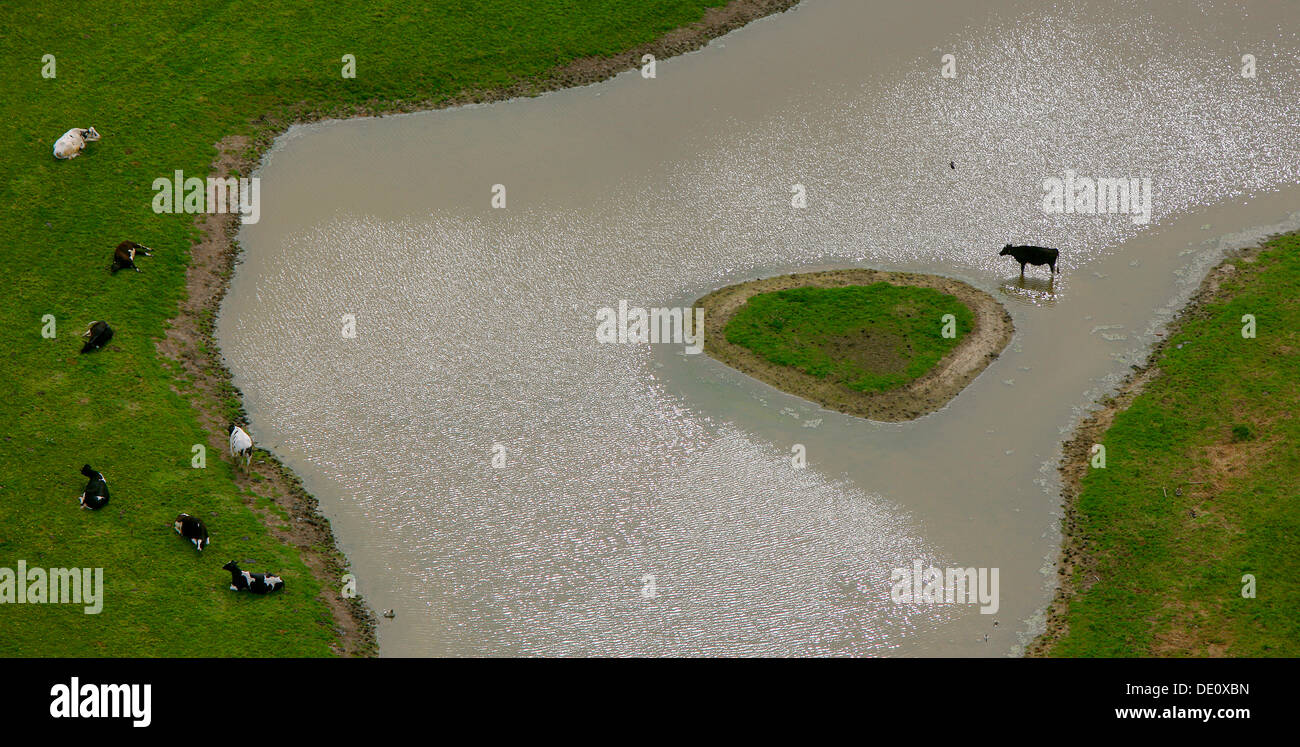cattle: (998, 238, 1066, 288), (67, 455, 120, 513), (221, 557, 292, 599), (218, 419, 264, 477), (164, 509, 220, 552), (105, 235, 156, 280), (49, 120, 102, 161), (78, 315, 117, 360)
